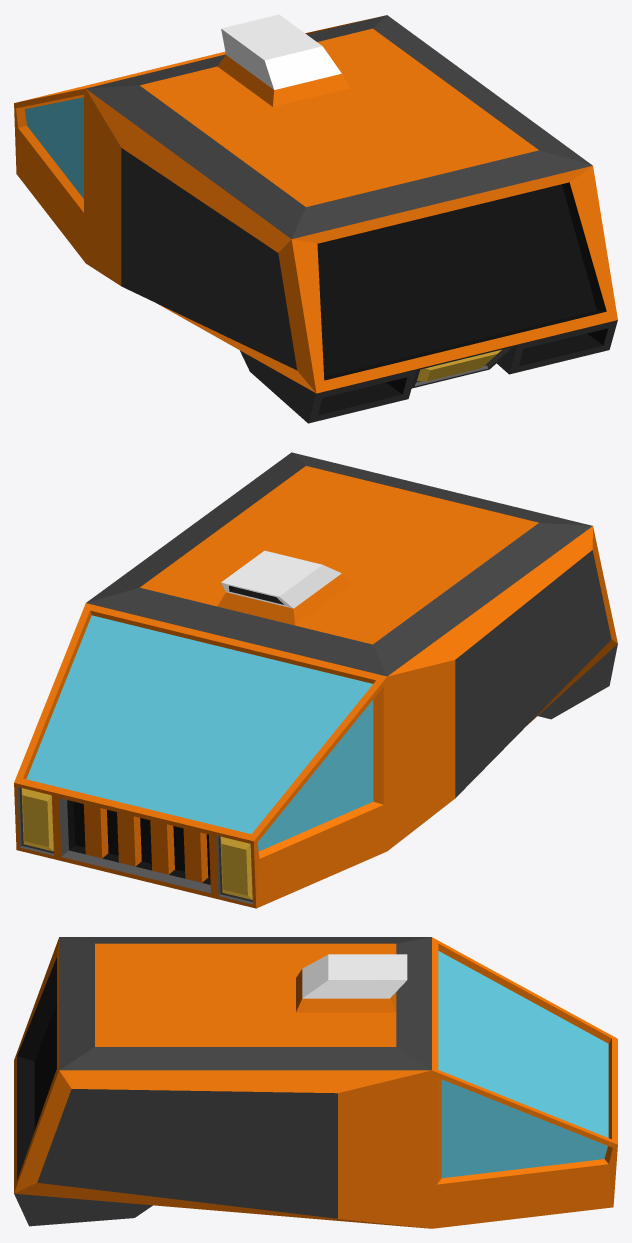
Rendered from Vehicle.fbx.
3 views of the same model, one above another, from view 1: azimuth 30°, elevation 25°; view 2: azimuth 150°, elevation 25°; view 3: azimuth 270°, elevation 25° (orthographic). The views are drawn at different scales.
Visible parts, largest first — view 1: Cube; view 2: Cube; view 3: Cube.
Boxes of the visible parts, <box> form: Cube: <box>14,14,617,423</box>; Cube: <box>14,452,617,908</box>; Cube: <box>14,937,617,1228</box>.
Size of the model in its own units: 400 by 246 by 691.
